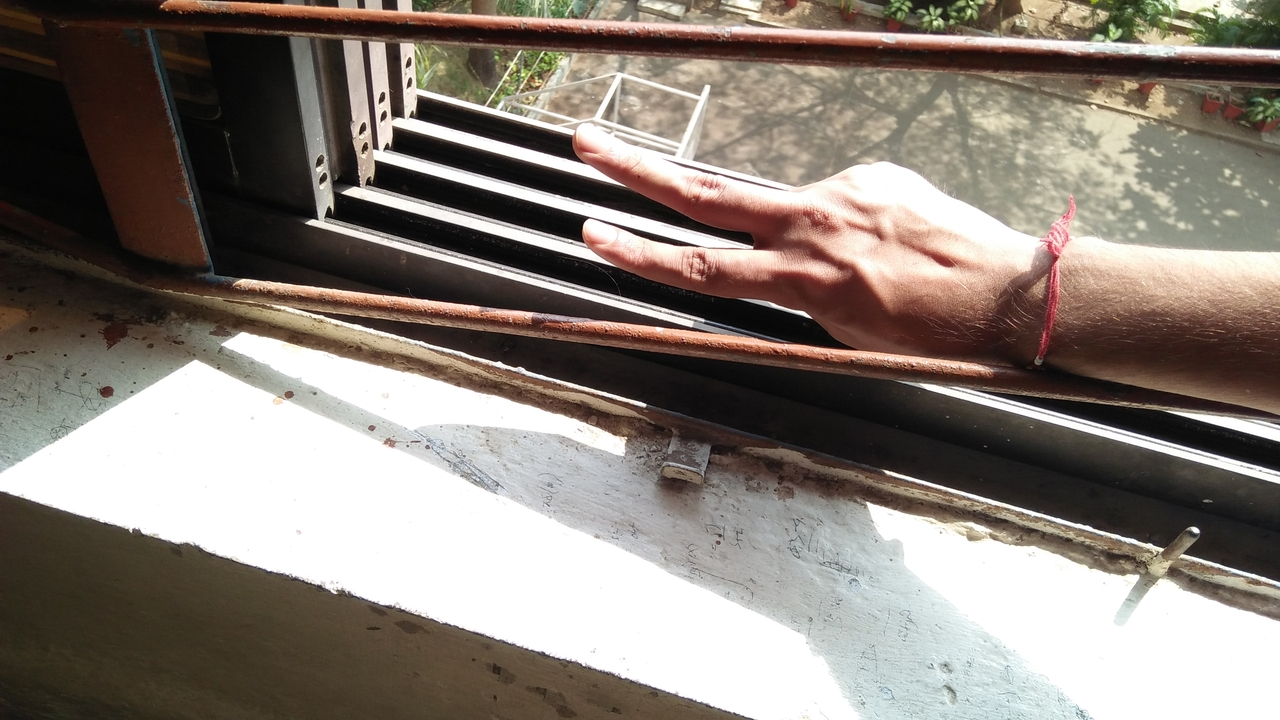fingertip: (561, 111, 614, 169), (568, 213, 623, 263)
